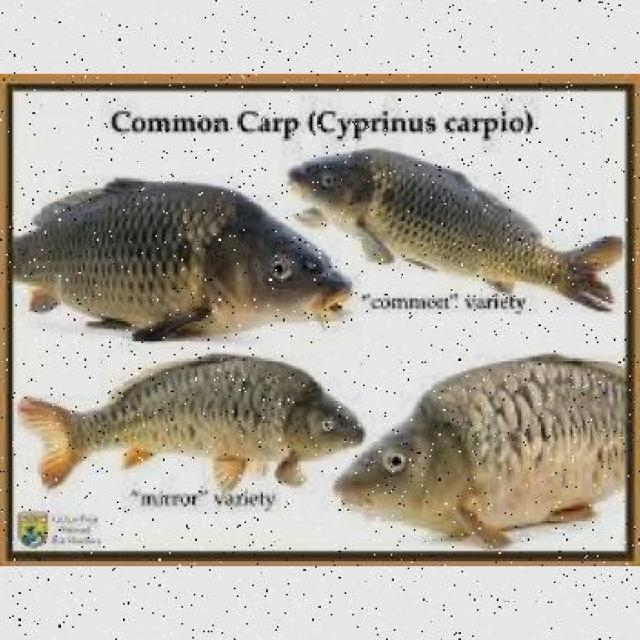ikan-mas: (11, 175, 348, 348), (339, 346, 630, 540), (296, 144, 618, 302), (21, 346, 364, 494)
